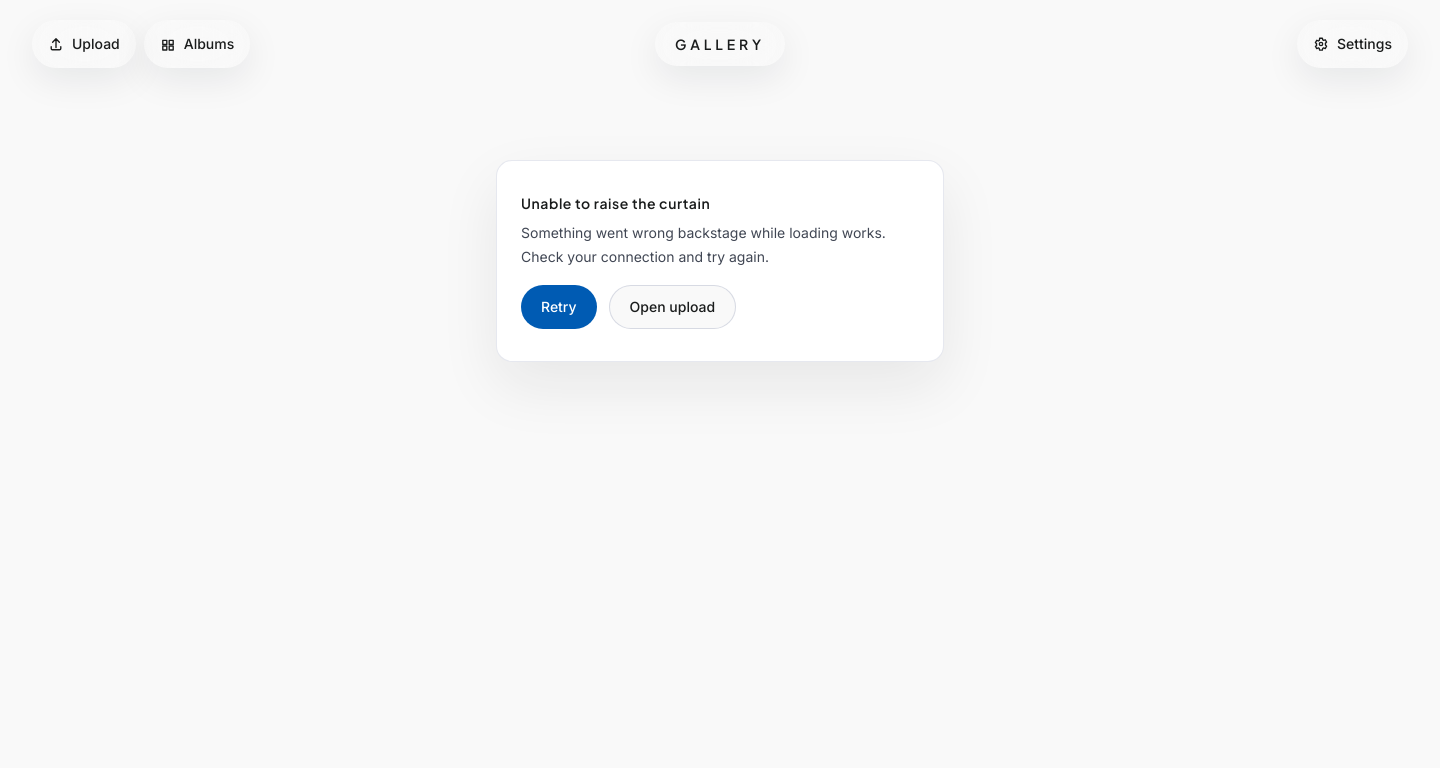
Test: ExhibitionPage › shows an error panel with retry that refetches photos
Check: the message with test id "exhibition-status-error" is shown, box [496,160,944,362]
Check: the text "Unable to raise the curtain" is shown, box [521,194,710,212]
Click the button "Retry": point(559, 307) [521,285,597,329]
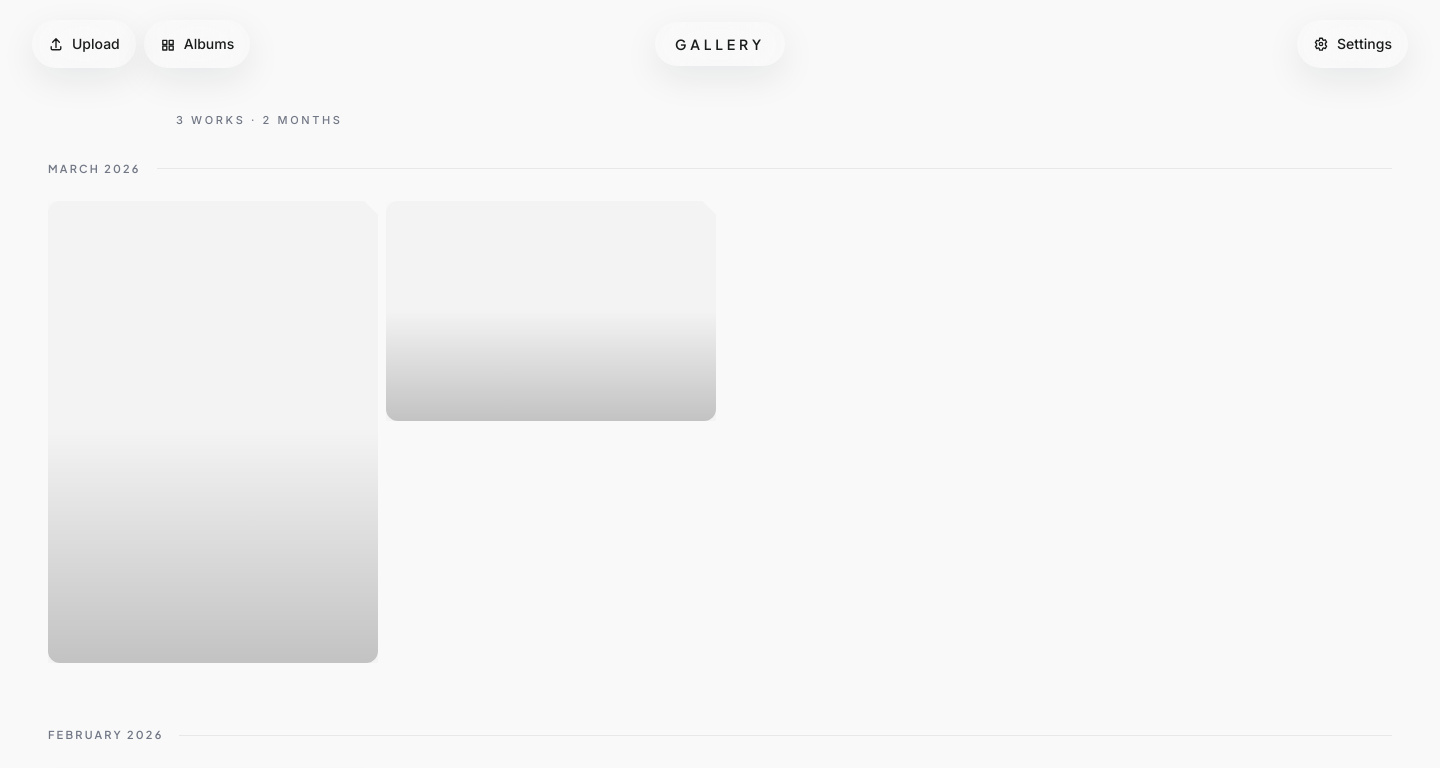
Check: the button named "Open late-afternoon.jpg" is shown, box [48,201,378,663]
